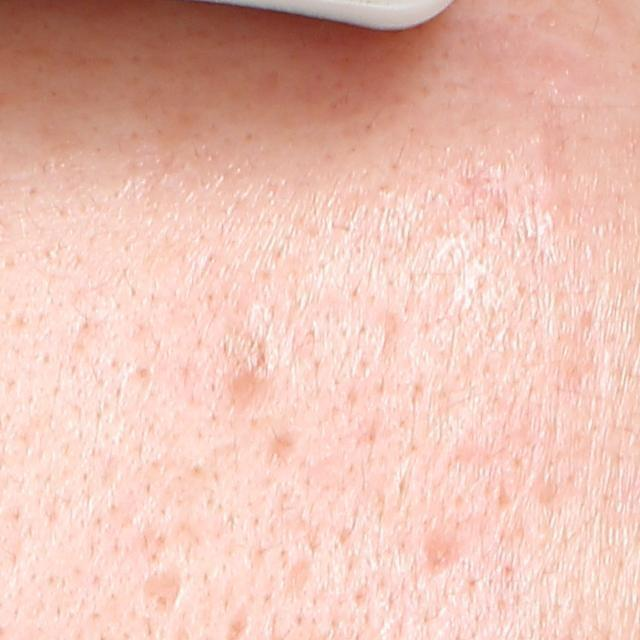atrophic_scar: (222, 371, 276, 418), (138, 571, 187, 617), (425, 529, 462, 575), (261, 433, 295, 473)
